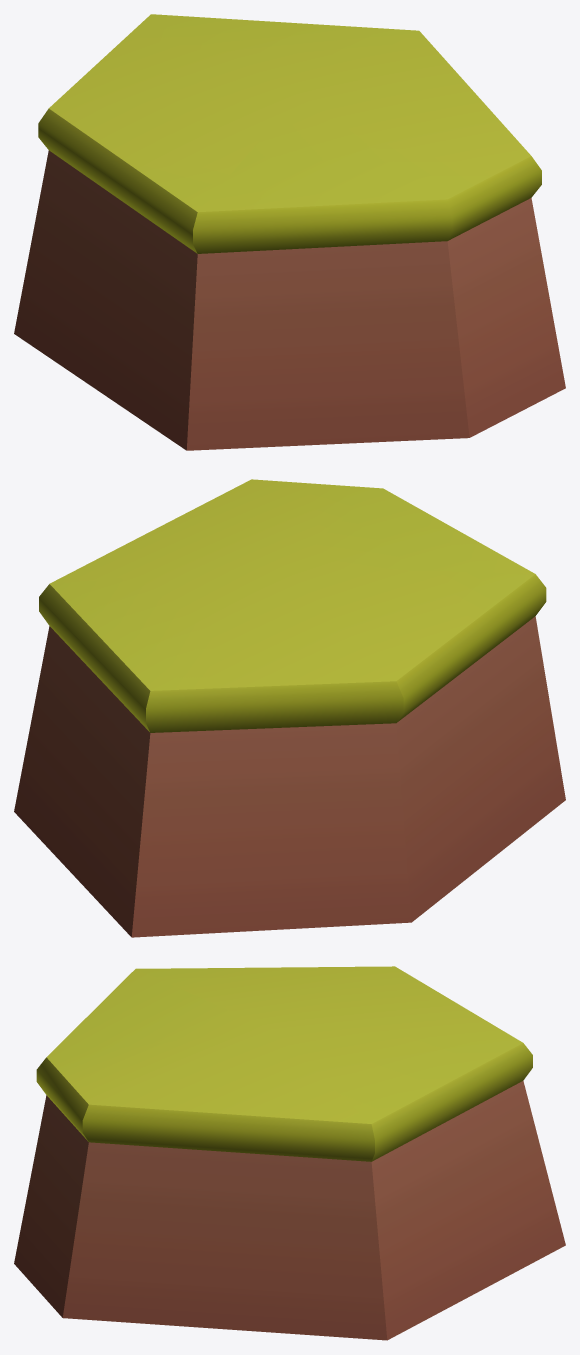
Rendered from hill-single-c.glb.
The picture shows the model from 3 angles, top to bottom: view 1: azimuth 30°, elevation 25°; view 2: azimuth 150°, elevation 25°; view 3: azimuth 270°, elevation 25°; orthographic projection. The views are drawn at different scales.
Visible parts, largest first — view 1: hill_single_C; view 2: hill_single_C; view 3: hill_single_C.
Boxes of the visible parts, bbox=[...] form: hill_single_C: bbox=[14, 14, 565, 450]; hill_single_C: bbox=[14, 479, 565, 937]; hill_single_C: bbox=[14, 966, 565, 1340].
Bounding box in the file's own units: 1.02 × 0.5886 × 1.32.
Materials: 1 (1 with a texture image).
